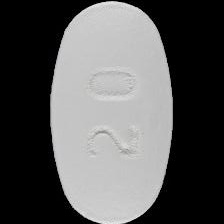43353-181: (0, 0, 224, 224)
